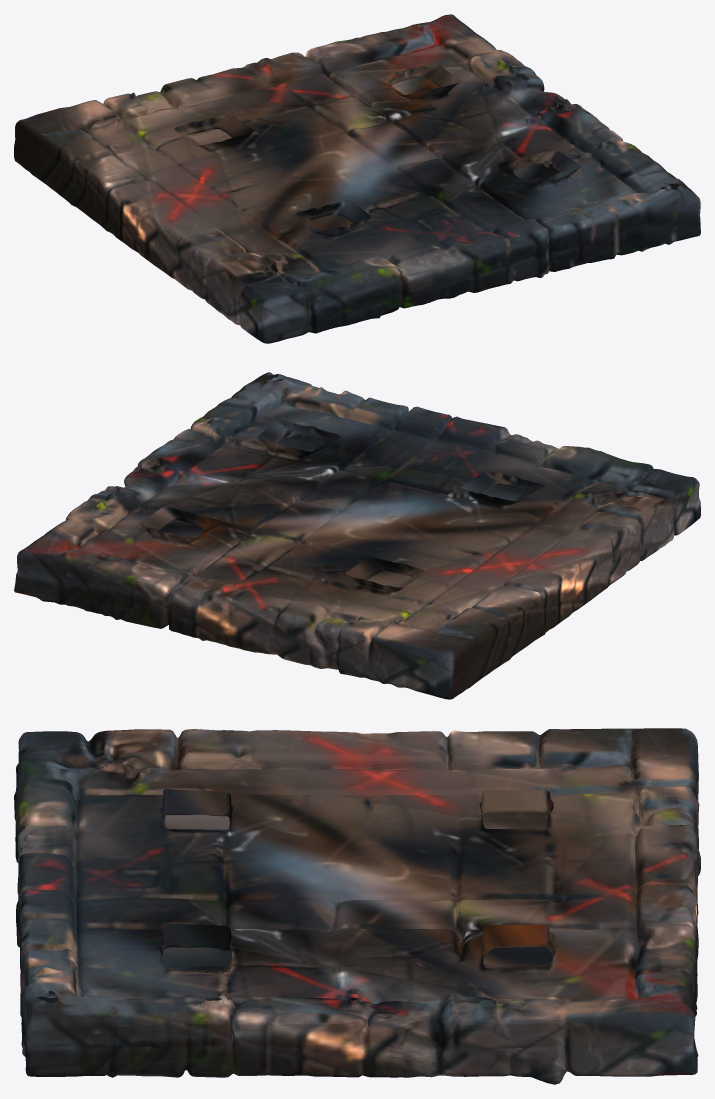
File: war_engine_plate.glb
3 views of the same model, one above another, from view 1: azimuth 30°, elevation 25°; view 2: azimuth 150°, elevation 25°; view 3: azimuth 270°, elevation 25° (orthographic). The views are drawn at different scales.
Parts seen in each view (by area): view 1: war_engine_plate; view 2: war_engine_plate; view 3: war_engine_plate.
Boxes of the visible parts, x1,y1,x2,y2 form: war_engine_plate: [14, 14, 700, 343]; war_engine_plate: [14, 372, 700, 699]; war_engine_plate: [14, 728, 700, 1084].
Bounding box in the file's own units: 2 × 0.2148 × 1.95.
1 material, 1 textured.
